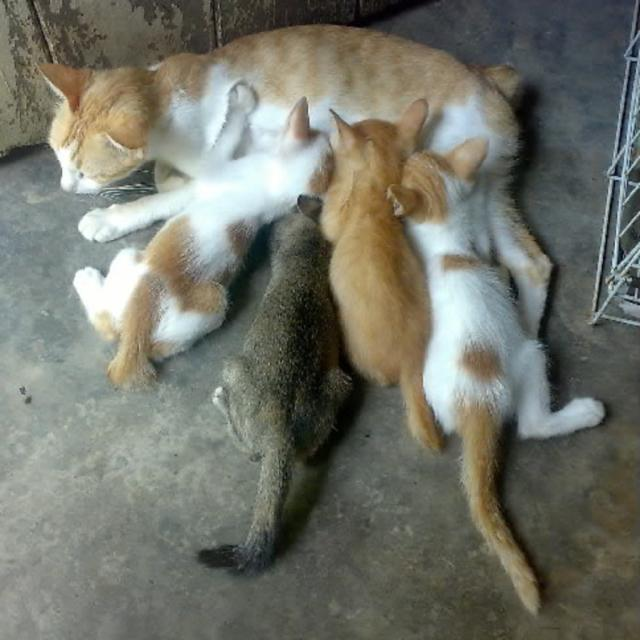Cat: (34, 18, 606, 622)
